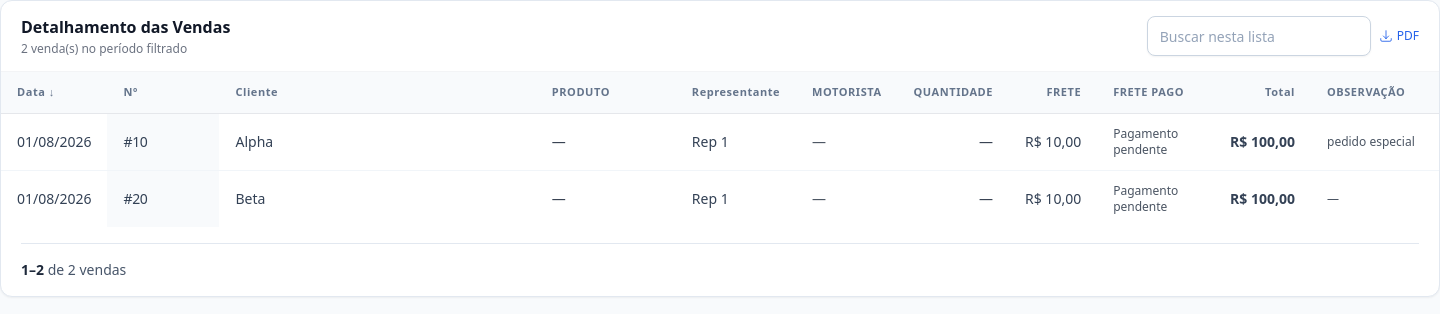
Test case: RelatorioVendasDetalhes › filtra a lista local por cliente, ordem e observação
This screenshot has width=1440, height=314.
Check: the text "Alpha" is shown, box 220,113 -> 536,170
Check: the text "Beta" is shown, box 220,170 -> 536,226
Type "especial" into the search field named "Buscar no detalhamento". click: point(1259, 36)
box: 1147,16 -> 1371,56
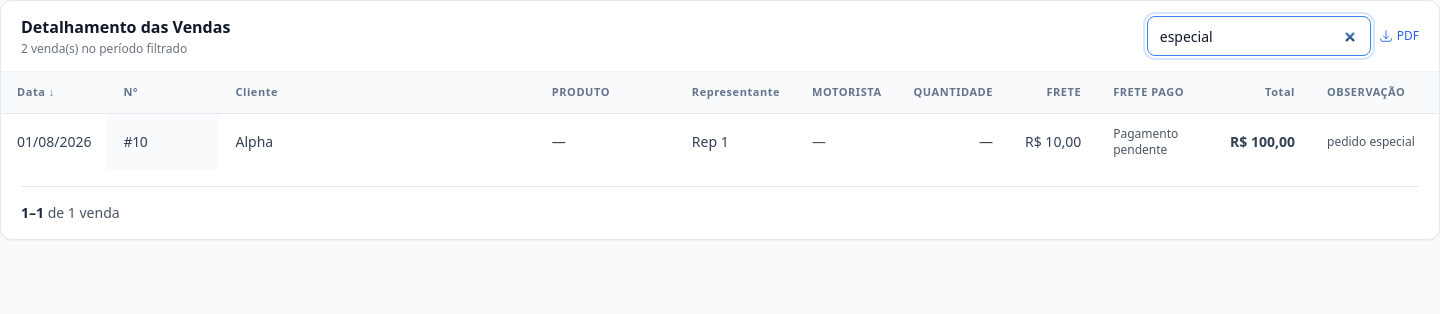
Check: the text "Alpha" is shown, box 220,113 -> 536,170
Check: the text "Beta" is gone
